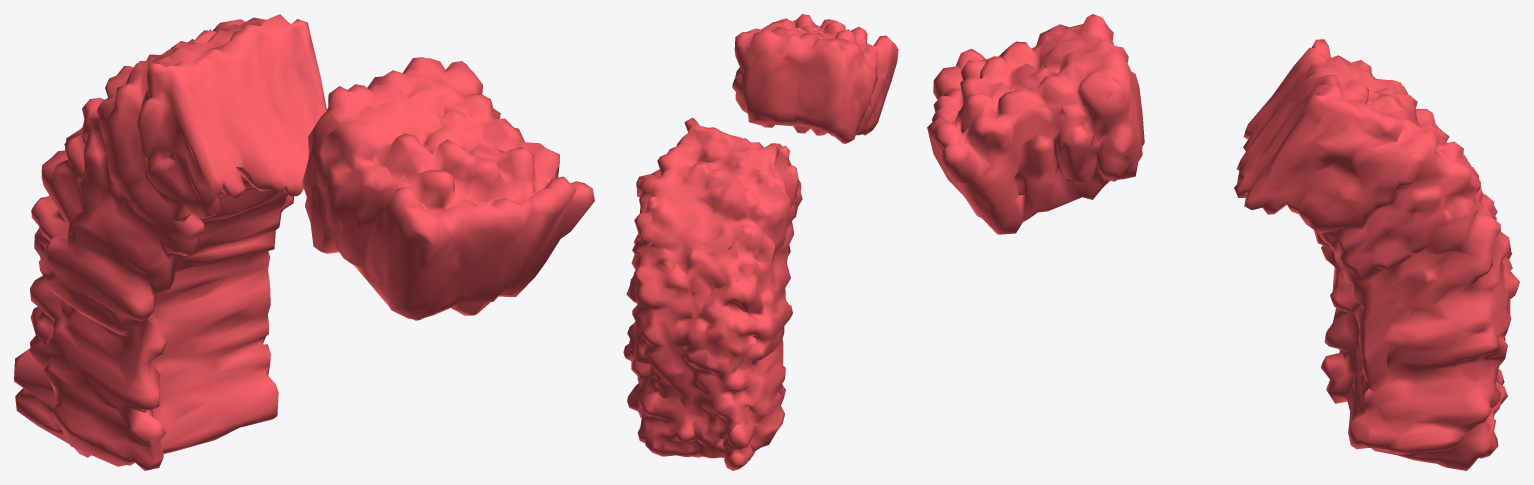
File: mohawk pink.glb
3 renders of one model, left to right at view 1: azimuth 30°, elevation 25°; view 2: azimuth 150°, elevation 25°; view 3: azimuth 270°, elevation 25°, orthographic. The views are drawn at different scales.
Visible parts, largest first — view 1: hair_short_mohawk_pink.001; view 2: hair_short_mohawk_pink.001; view 3: hair_short_mohawk_pink.001.
Part boxes in pixels (x1,y1,x2,y2): hair_short_mohawk_pink.001: (14, 14, 594, 470); hair_short_mohawk_pink.001: (623, 14, 898, 470); hair_short_mohawk_pink.001: (927, 14, 1519, 470).
Bounding box in the file's own units: 0.1856 × 0.3267 × 0.4075.
Materials: 1 (1 with a texture image).
